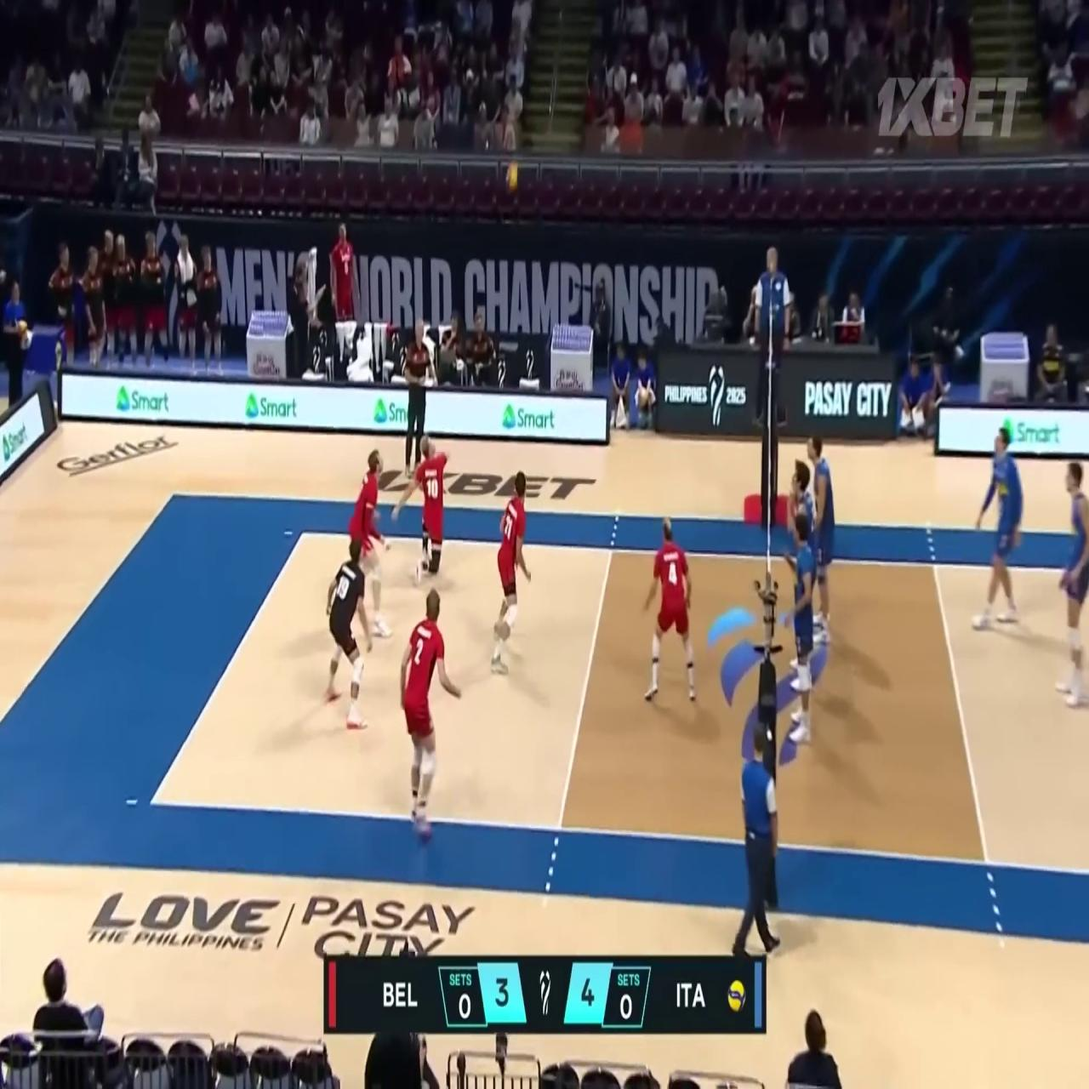ball: (505, 162, 519, 188)
